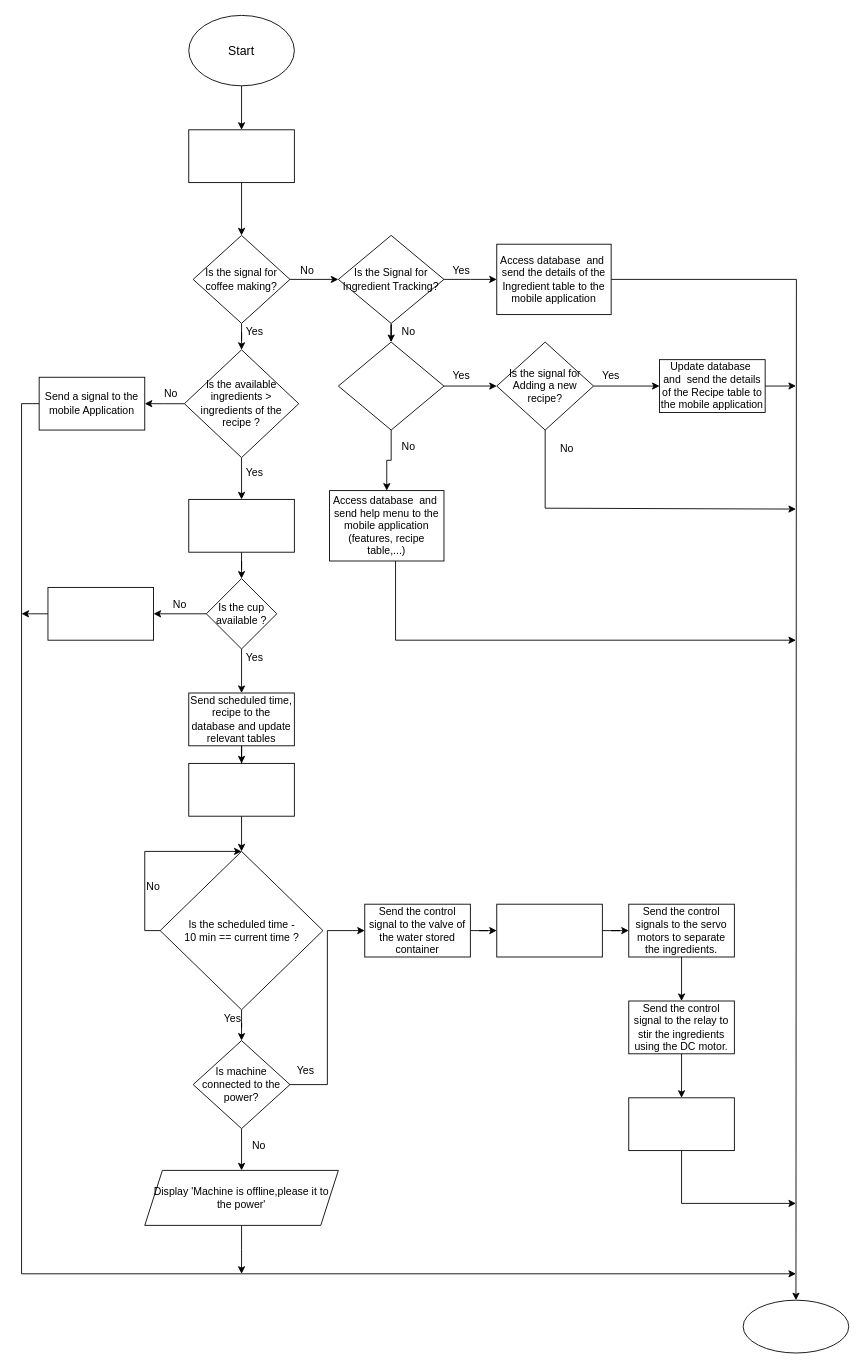
Some shapes in this 864 by 1368 pixel diagram are drawn without their labels. The centre of each missing label's shape, as x and y in pixels:
"End" belongs at point 795,1326.
"Is the Signal for Favourites ?" belongs at point 390,385.
"Send a control signal to the microcontroller" belongs at point 241,789.
"Send a control signal to the valve to pour the coffee." belongs at point 681,1124.
"Send a signal to the mobile Application ('The cup is unavailable')" belongs at point 100,613.
"Send the control signal to the heater to boil the water (for 2 min)" belongs at point 549,930.
"Send the control signal to the reflective optical sensor." belongs at point 241,525.
"Send the signal from the mobile application" belongs at point 241,156.
